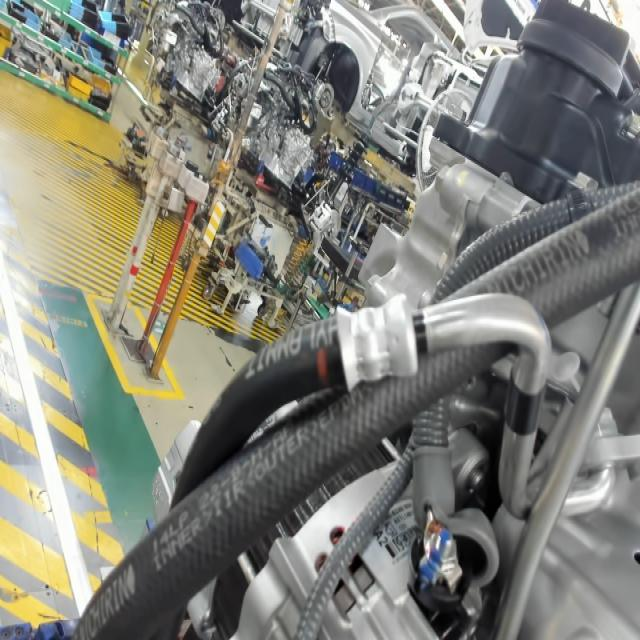Alternator-BA2: (369, 518, 392, 551)
Hose Discharge-HT: (498, 371, 546, 437)
